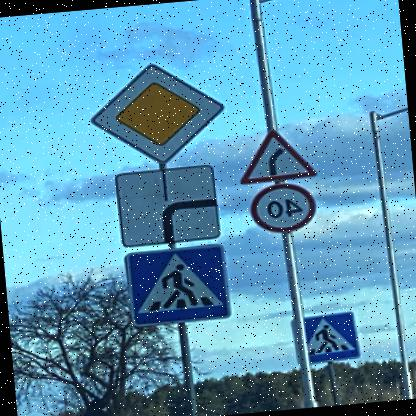crosswalk: (124, 242, 235, 327), (294, 309, 364, 364)
speedlimit: (250, 180, 320, 235)
